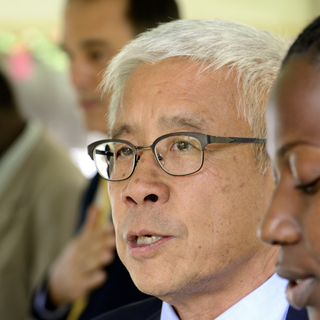eye: (166, 133, 205, 159), (111, 143, 139, 159)
